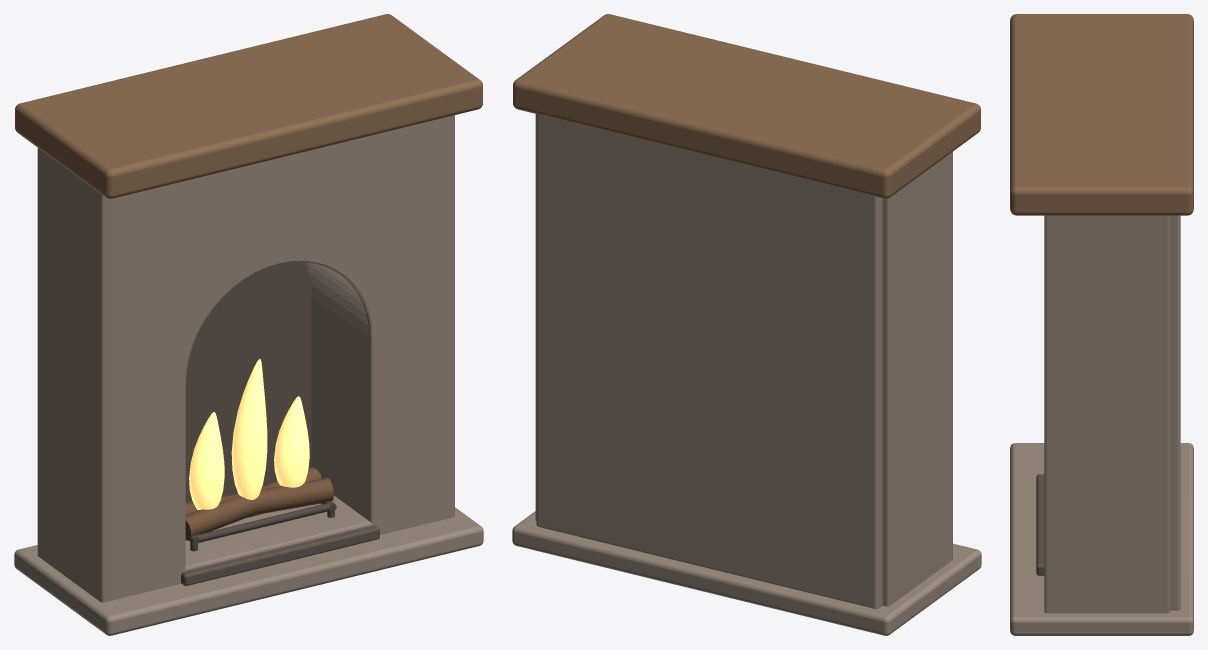
The model's file is fireplace.glb.
The picture shows the model from 3 angles, left to right: view 1: azimuth 30°, elevation 25°; view 2: azimuth 150°, elevation 25°; view 3: azimuth 270°, elevation 25°; orthographic projection. The views are drawn at different scales.
Visible parts, largest first — view 1: single-arched-masonry-surround, solid-proud-timber-mantel, recessed-dark-firebox-back, grounded-stone-hearth, contained-hearth-flame-1, supported-firebox-floor, contained-hearth-flame-0, contained-hearth-flame-2, supported-hearth-log--1, supported-hearth-log-1, grate-crossbar-0-1; view 2: complete-fireplace-back, solid-proud-timber-mantel, single-arched-masonry-surround, grounded-stone-hearth; view 3: single-arched-masonry-surround, solid-proud-timber-mantel, grounded-stone-hearth, complete-fireplace-back, supported-firebox-floor.
Boxes of the visible parts, <box> form: single-arched-masonry-surround: <box>37,115,454,602</box>; solid-proud-timber-mantel: <box>15,14,482,198</box>; recessed-dark-firebox-back: <box>185,262,311,502</box>; grounded-stone-hearth: <box>14,507,483,635</box>; contained-hearth-flame-1: <box>231,359,267,499</box>; supported-firebox-floor: <box>181,525,379,585</box>; contained-hearth-flame-0: <box>189,412,224,510</box>; contained-hearth-flame-2: <box>274,396,309,487</box>; supported-hearth-log--1: <box>185,477,333,515</box>; supported-hearth-log-1: <box>185,467,321,540</box>; grate-crossbar-0-1: <box>191,502,334,542</box>; complete-fireplace-back: <box>536,114,882,608</box>; solid-proud-timber-mantel: <box>513,14,980,198</box>; single-arched-masonry-surround: <box>535,114,952,606</box>; grounded-stone-hearth: <box>512,511,981,635</box>; single-arched-masonry-surround: <box>1044,215,1170,613</box>; solid-proud-timber-mantel: <box>1010,14,1193,215</box>; grounded-stone-hearth: <box>1010,443,1193,635</box>; complete-fireplace-back: <box>1170,215,1180,610</box>; supported-firebox-floor: <box>1036,474,1044,575</box>.
Bounding box in the file's own units: 1.6 × 1.89 × 0.7.
